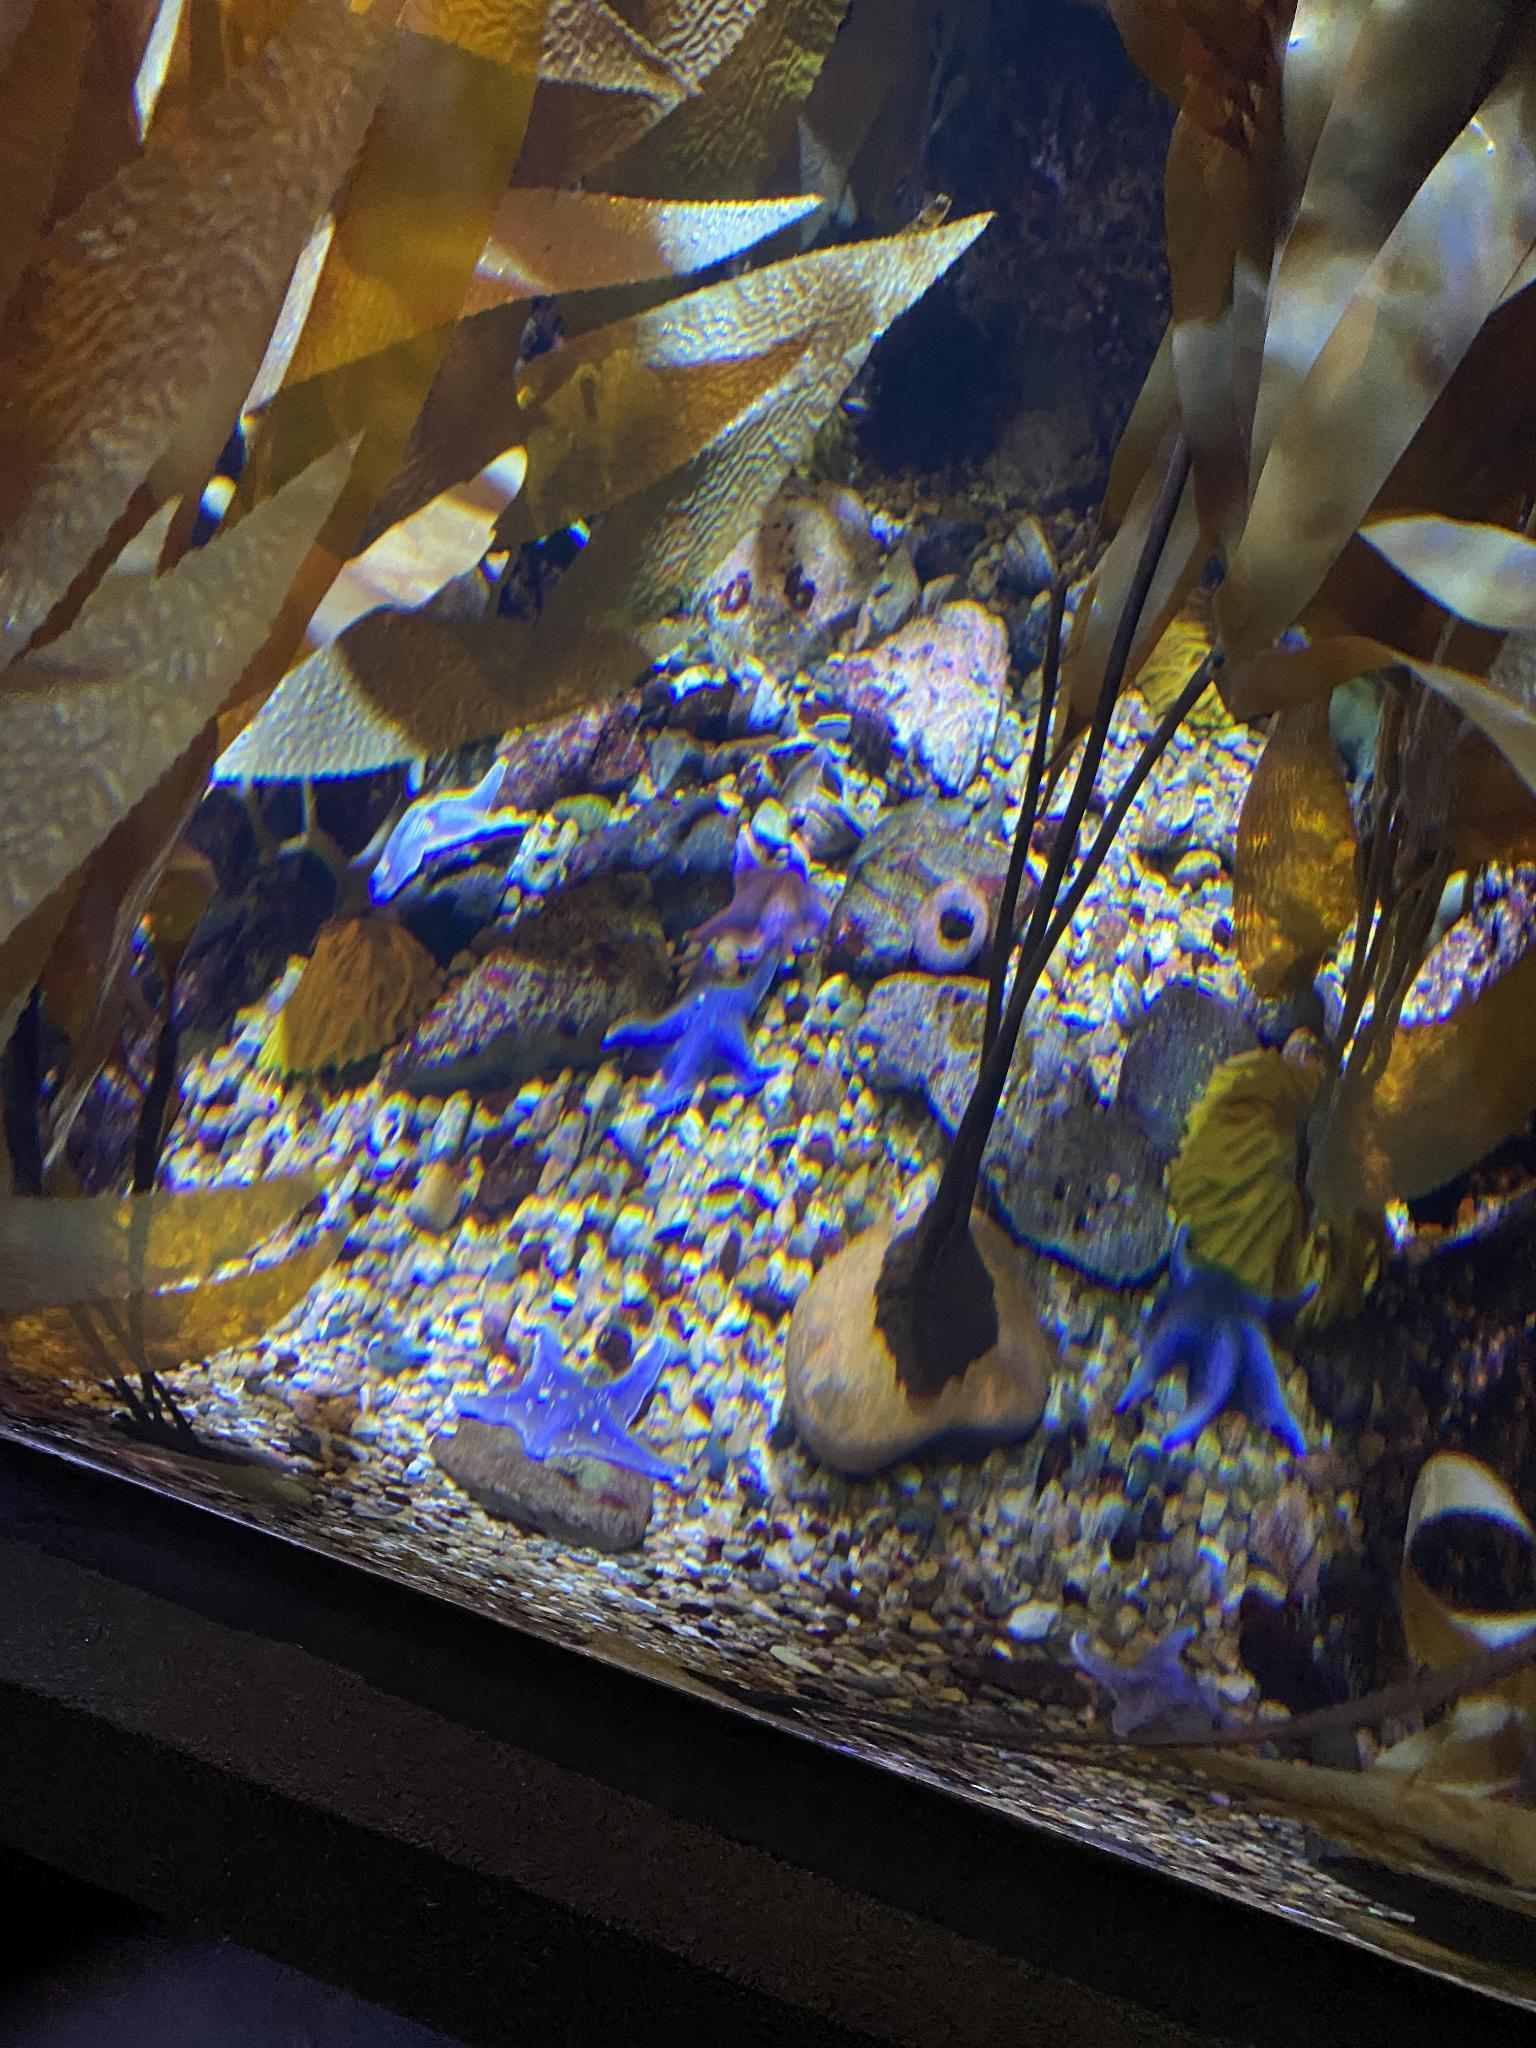starfish: (1121, 1218, 1321, 1459), (455, 1326, 686, 1488), (603, 942, 781, 1118), (369, 760, 531, 903), (1075, 1622, 1225, 1743)
